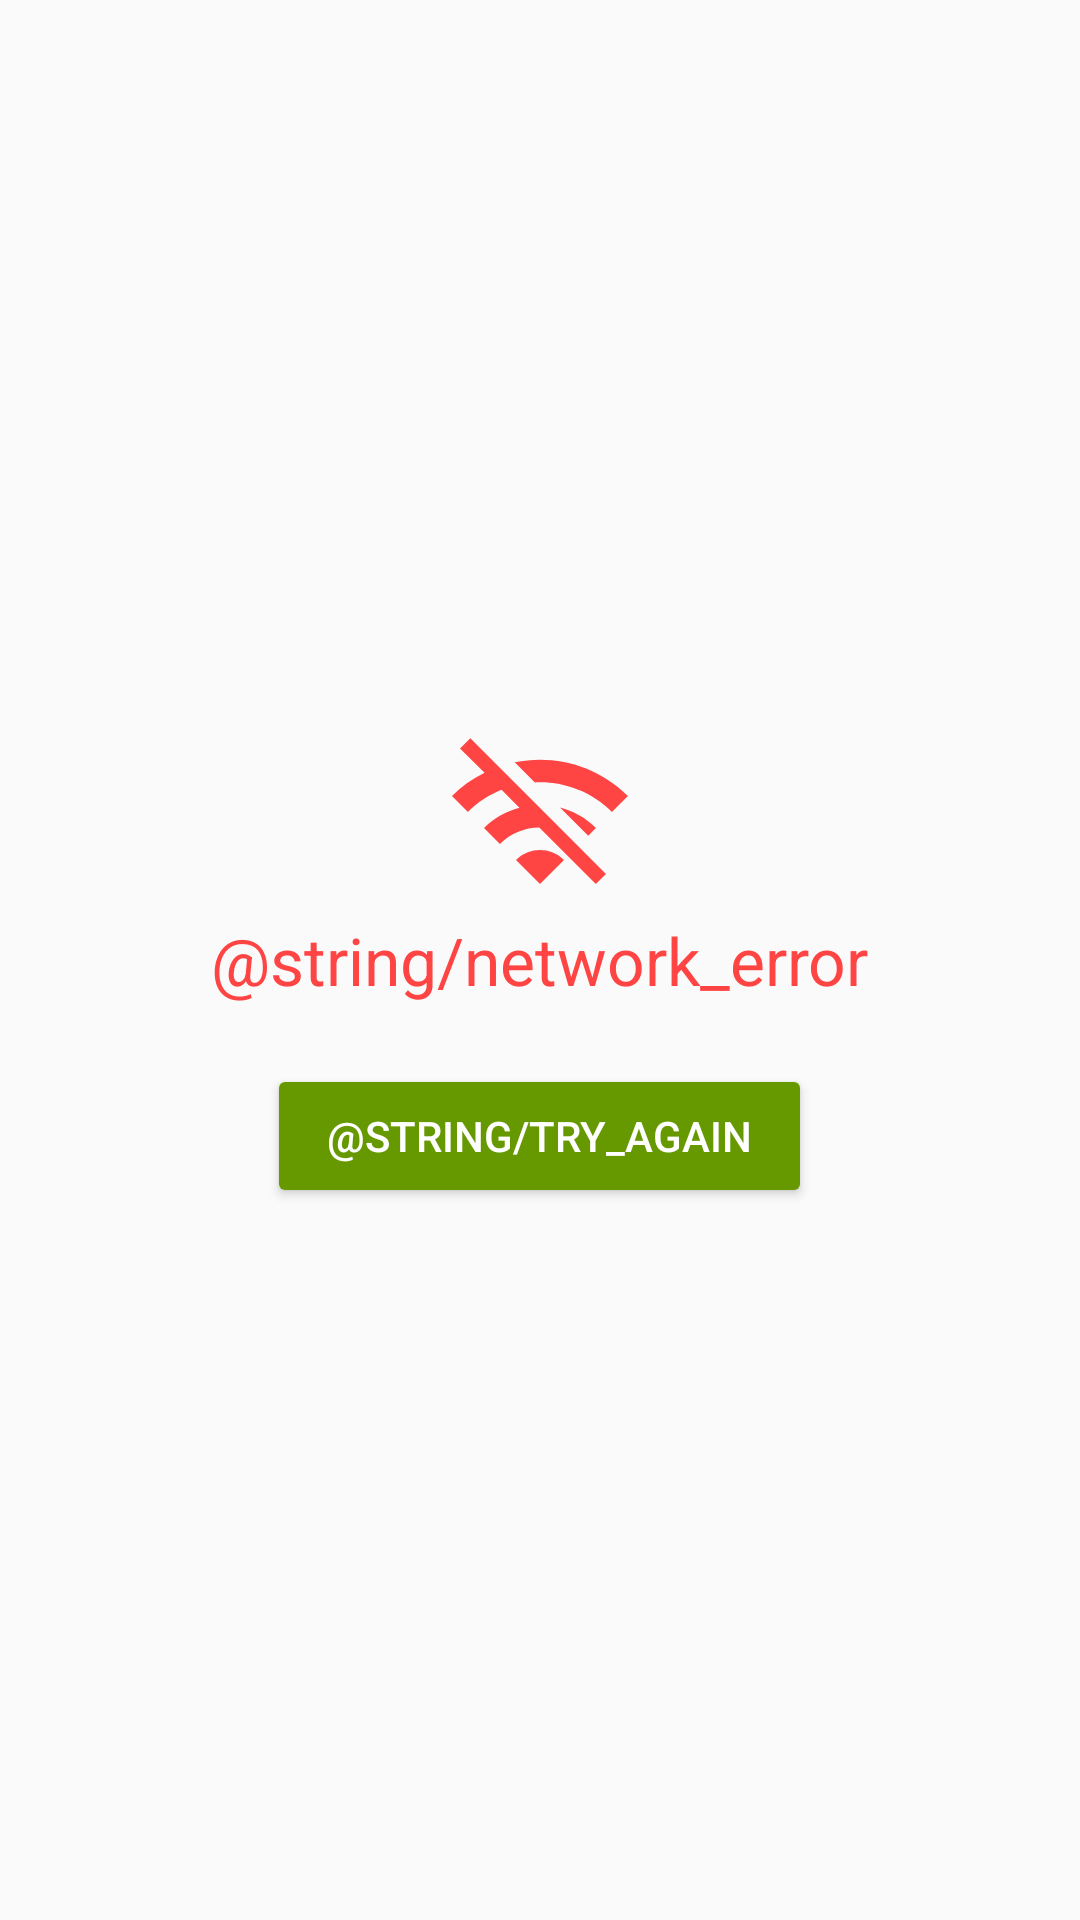

Point at icon controls on the screen. Image size 1080 x 1920, points as (x=x, y=y).
wifi off: (x=540, y=811)
